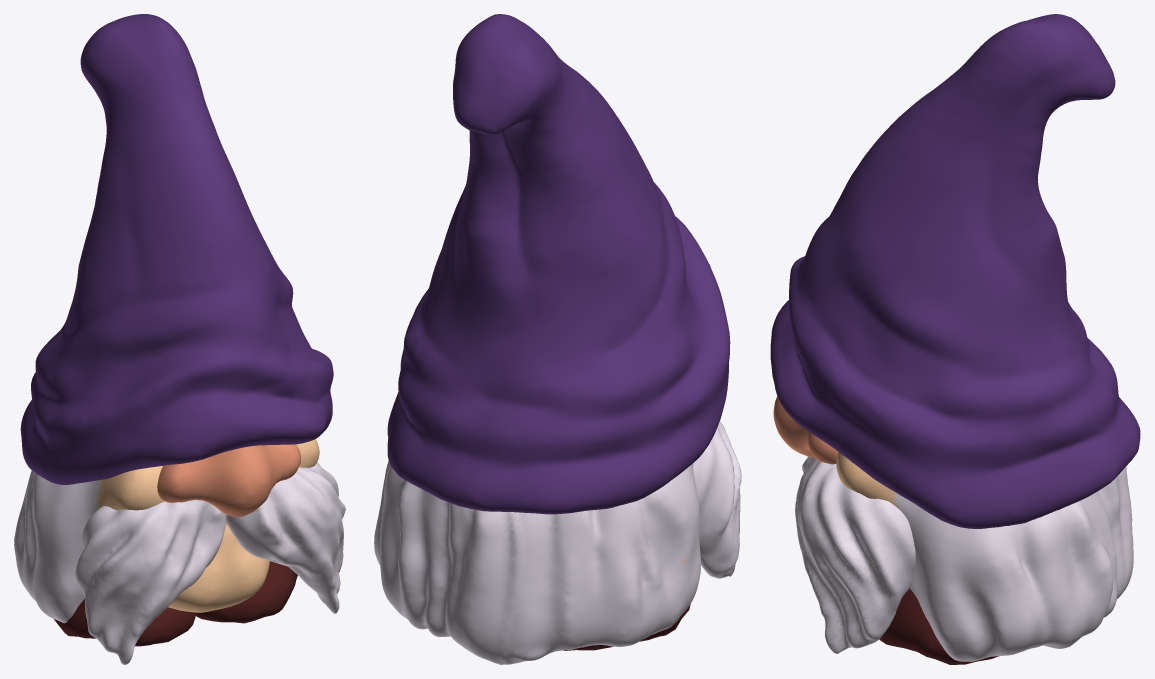
The model's file is Mago.glb.
3 renders of one model, left to right at view 1: azimuth 30°, elevation 25°; view 2: azimuth 150°, elevation 25°; view 3: azimuth 270°, elevation 25°, orthographic. The views are drawn at different scales.
Visible parts, largest first — view 1: Icosphere; view 2: Icosphere; view 3: Icosphere.
Part boxes in pixels (left/top/right/bottom): Icosphere: left=14, top=14, right=345, bottom=664; Icosphere: left=374, top=14, right=741, bottom=664; Icosphere: left=770, top=14, right=1140, bottom=664.
Size of the model in its own units: 1.4 by 2.75 by 1.53.
